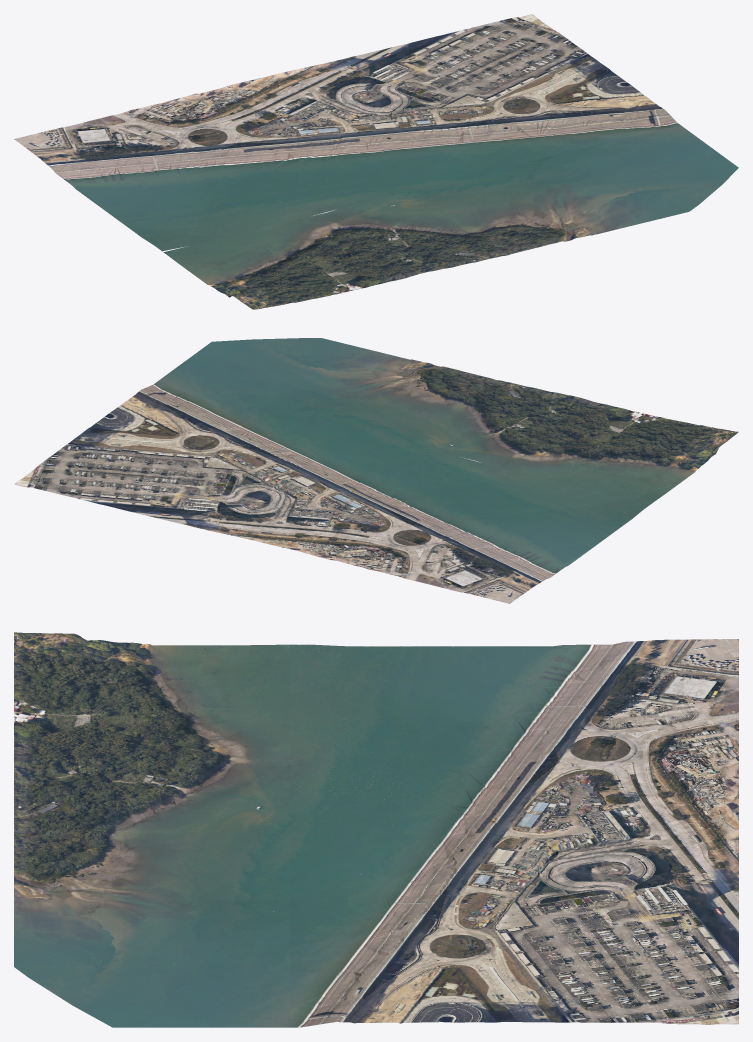
File: terrain_03.glb
The picture shows the model from 3 angles, top to bottom: view 1: azimuth 30°, elevation 25°; view 2: azimuth 150°, elevation 25°; view 3: azimuth 270°, elevation 25°; orthographic projection. The views are drawn at different scales.
Parts seen in each view (by area): view 1: T09750168000106E11.001; view 2: T09750168000106E11.001; view 3: T09750168000106E11.001.
Part boxes in pixels (left/top/right/bottom): T09750168000106E11.001: left=14, top=14, right=738, bottom=309; T09750168000106E11.001: left=14, top=338, right=738, bottom=603; T09750168000106E11.001: left=14, top=632, right=738, bottom=1027.
Size of the model in its own units: 750 by 15.14 by 600.
Materials: 1 (1 with a texture image).
